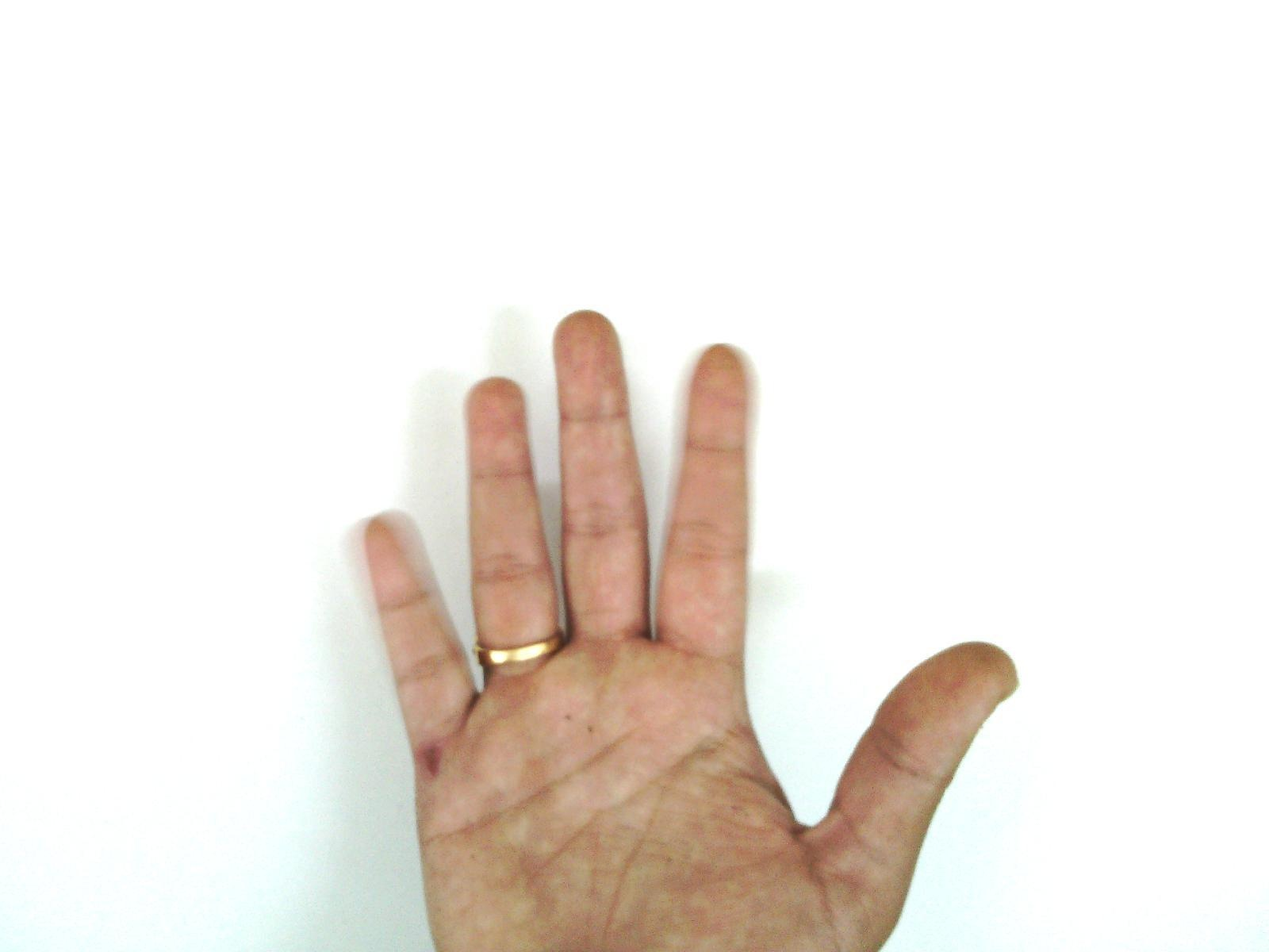open_palm: (358, 309, 1021, 951)
